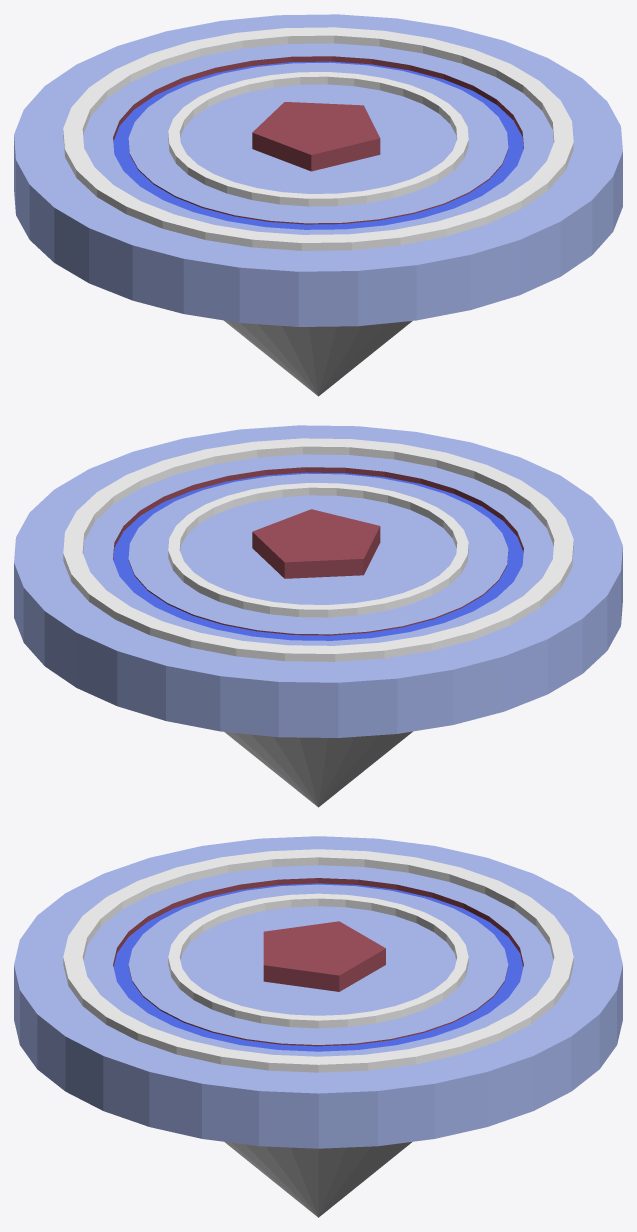
Rendered from player.obj.
3 views of the same model, one above another, from view 1: azimuth 30°, elevation 25°; view 2: azimuth 150°, elevation 25°; view 3: azimuth 270°, elevation 25° (orthographic).
Visible parts, largest first — view 1: 円柱; view 2: 円柱; view 3: 円柱.
Boxes of the visible parts, x1,y1,x2,y2 form: 円柱: (14,14,622,396); 円柱: (14,425,622,807); 円柱: (14,836,622,1217).
Size of the model in its own units: 2.73 by 1.33 by 2.73.
1 material, 1 textured.
